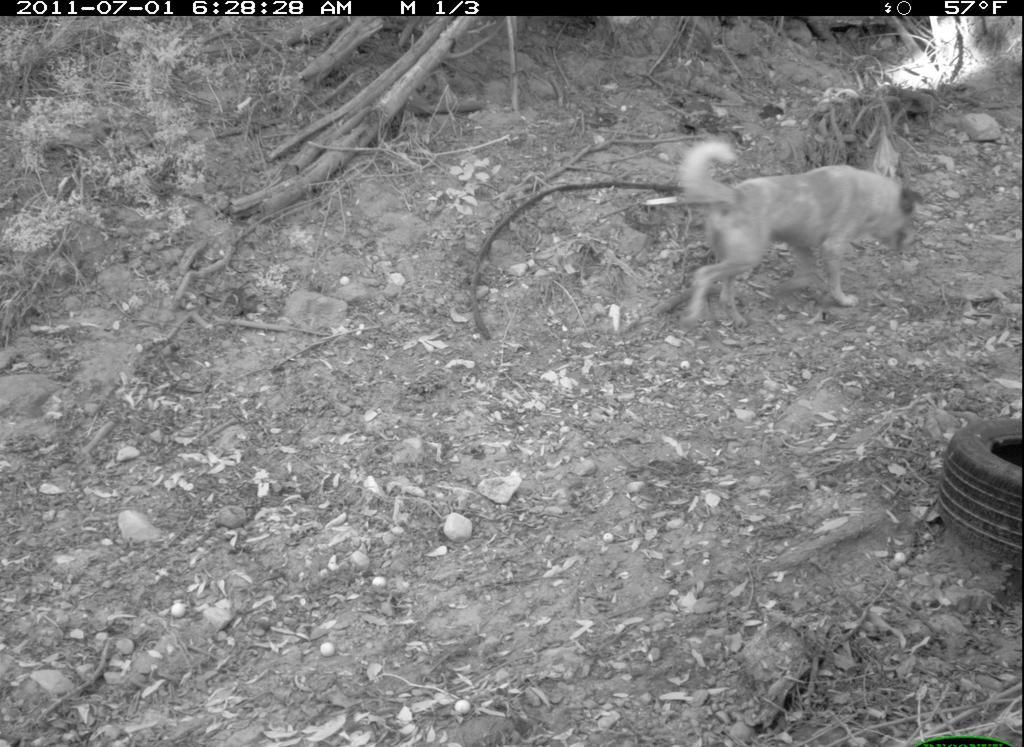dog: (669, 131, 922, 328)
